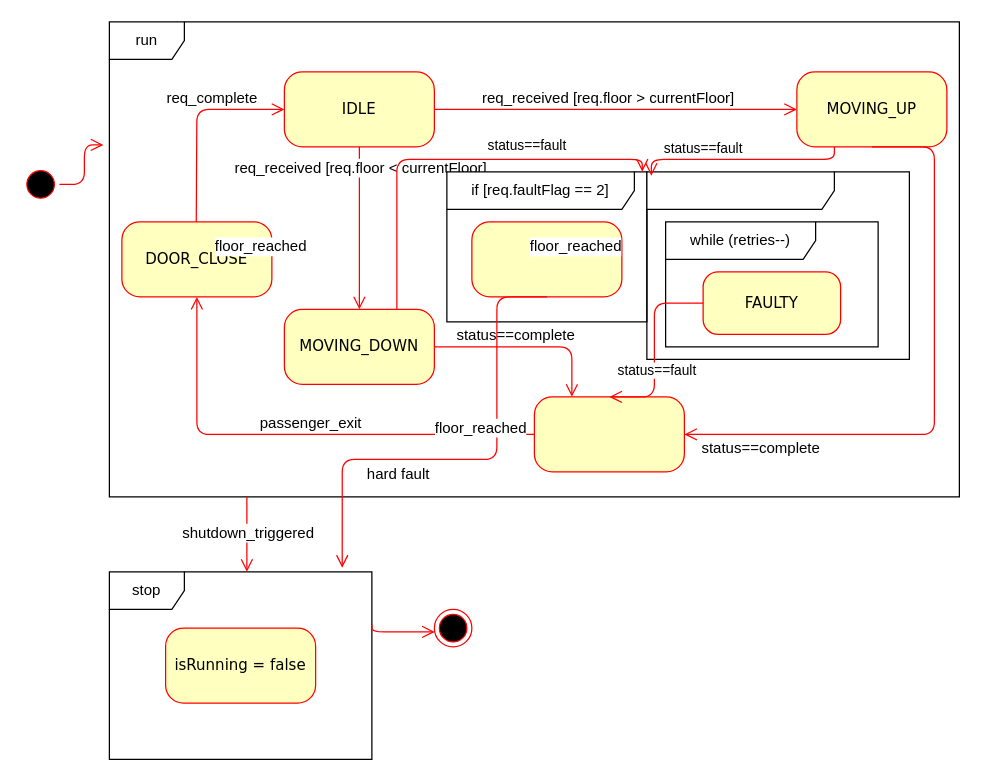
The diagram is 981 pixels wide and 781 high, and some of its shapes have lost their labels. The centre of each missing label's shape, as x and y in pixels:
DOOR_OPEN: the point at 608,434
if [req.faultFlag == 1]: the point at 777,265
OUT_OF_SERVICE: the point at 546,259
